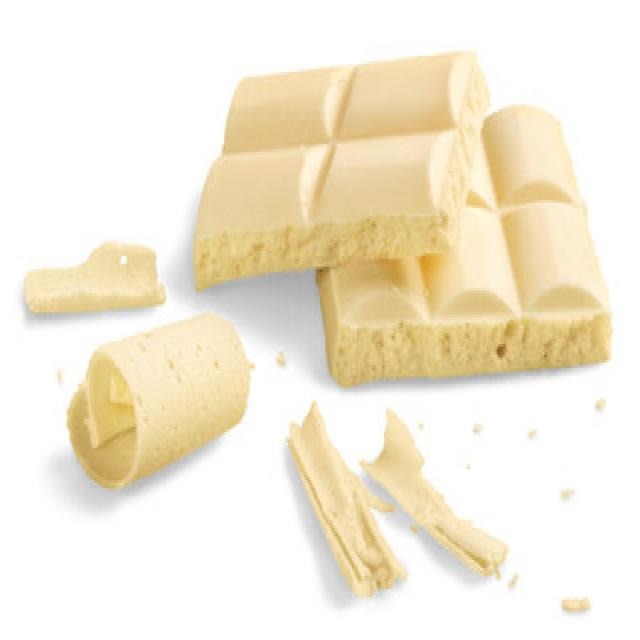Chocolate: (317, 103, 611, 384), (186, 50, 494, 294)
